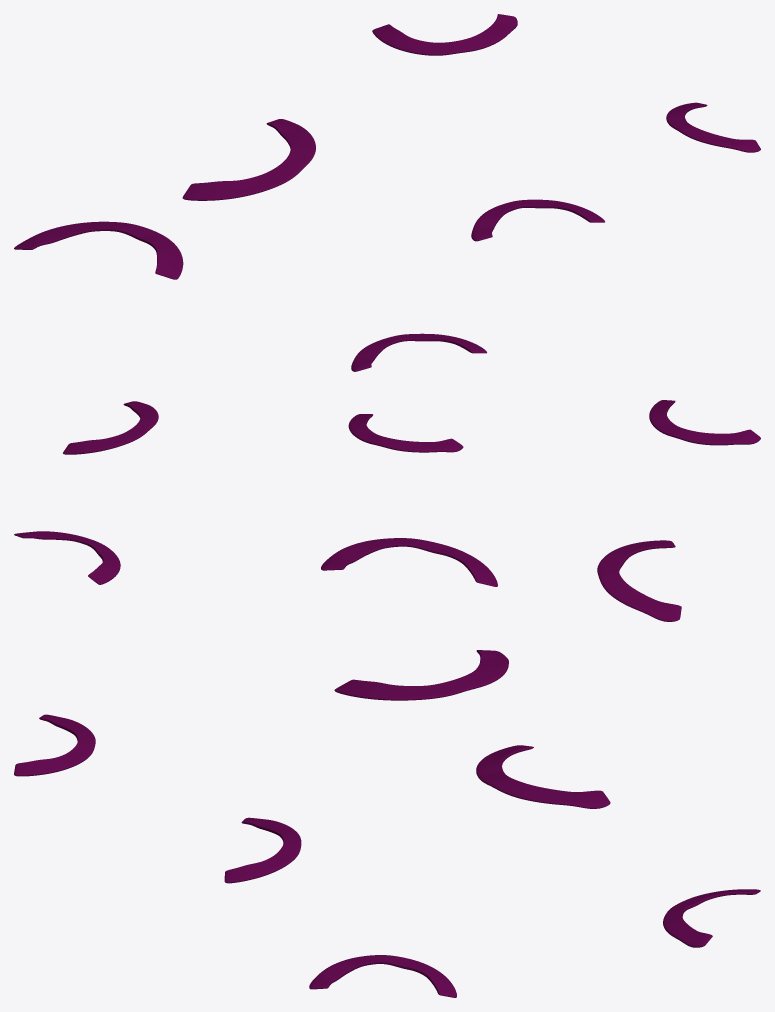
The model's file is uien.fbx.
The picture shows the model from 3 angles, top to bottom: view 1: azimuth 30°, elevation 25°; view 2: azimuth 150°, elevation 25°; view 3: azimuth 270°, elevation 25°; orthographic projection. The views are drawn at different scales.
Parts seen in each view (by area): view 1: Circle.009; view 2: Circle.009; view 3: Circle.009.
Part boxes in pixels (x1=…): Circle.009: x1=14, y1=14, x2=760, y2=371; Circle.009: x1=14, y1=400, x2=760, y2=621; Circle.009: x1=14, y1=650, x2=760, y2=997.
Bounding box in the file's own units: 136 × 4.11 × 125.
